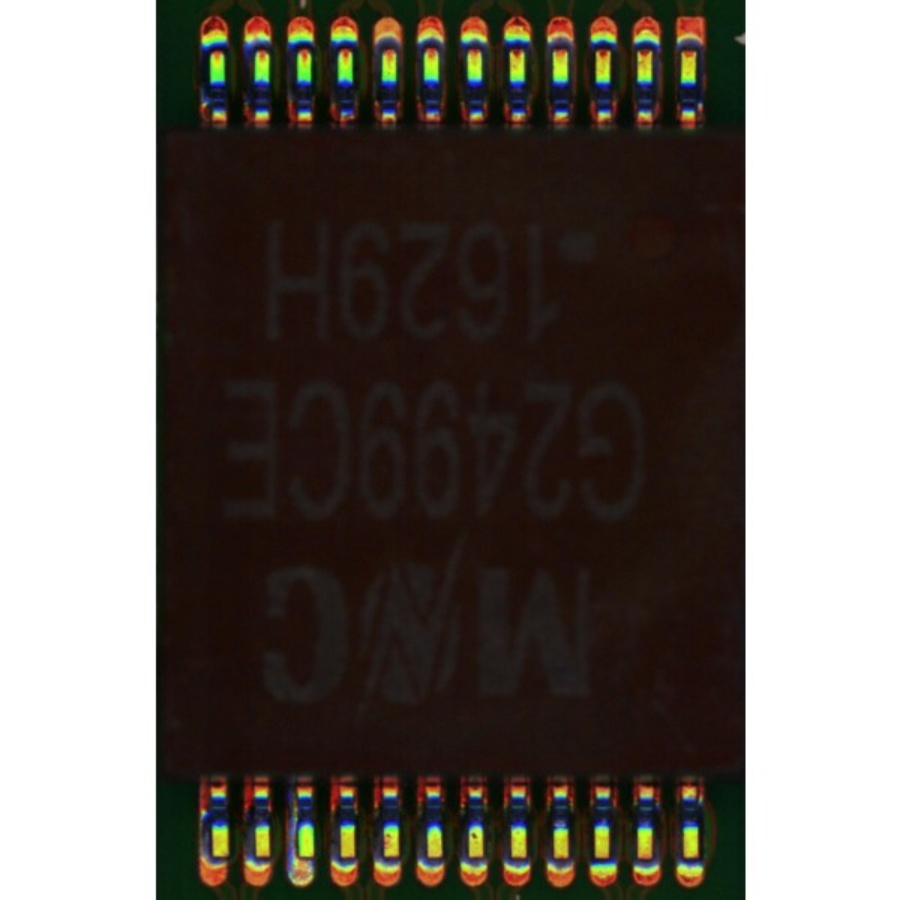Bad_podu: (297, 846, 310, 869)
Bad_qiaojiao: (287, 795, 298, 855)
